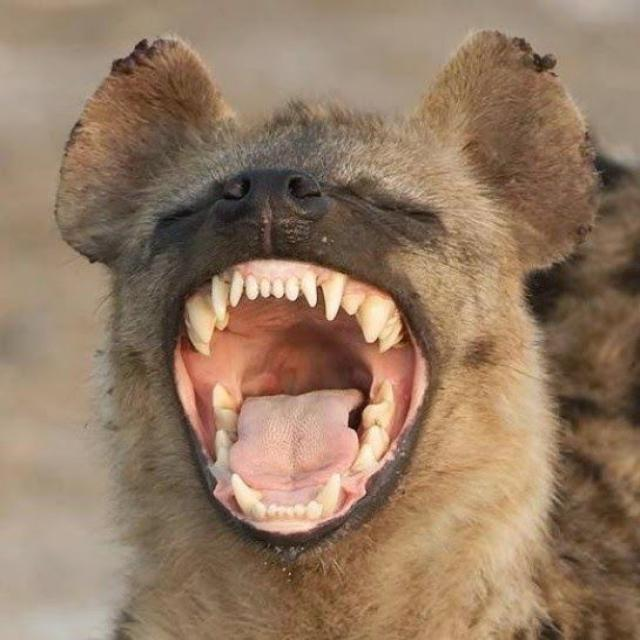Carnivorous: (54, 31, 640, 640)
